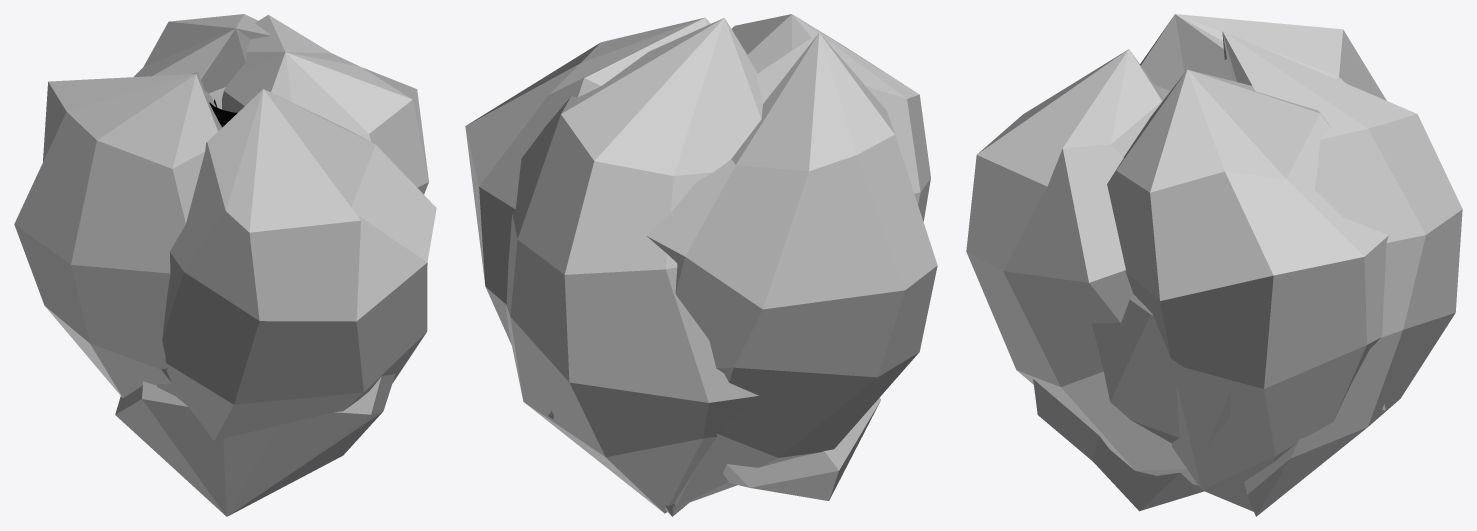
File: bear_Wave.FBX
3 views of the same model, side by side, from view 1: azimuth 30°, elevation 25°; view 2: azimuth 150°, elevation 25°; view 3: azimuth 270°, elevation 25° (orthographic). The views are drawn at different scales.
Parts seen in each view (by area): view 1: Bone01, Bone06, Bone08, Bone03, Bone05; view 2: Bone06, Bone05, Bone03, Bone01, Bone08; view 3: Bone03, Bone01, Bone05, Bone08, Bone06.
Boxes of the visible parts, x1,y1,x2,y2 form: Bone01: [156, 89, 436, 441]; Bone06: [14, 72, 221, 397]; Bone08: [115, 374, 395, 516]; Bone03: [222, 14, 428, 194]; Bone05: [134, 14, 271, 109]; Bone06: [548, 32, 937, 507]; Bone05: [506, 18, 762, 513]; Bone03: [465, 17, 710, 516]; Bone01: [731, 14, 930, 221]; Bone08: [723, 397, 880, 500]; Bone03: [1107, 69, 1388, 511]; Bone01: [966, 49, 1198, 485]; Bone05: [1222, 31, 1462, 516]; Bone08: [1033, 294, 1230, 511]; Bone06: [1140, 14, 1386, 413].
Size of the model in its own units: 261 by 281 by 265.
